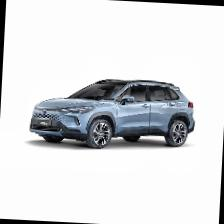NON-EV: (30, 73, 201, 154)
